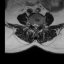CCS_normal: (35, 22, 36, 31)
LFS_stenosis: (38, 22, 40, 28)
LLS_normal: (36, 22, 38, 29)
RFS_normal: (31, 21, 33, 27)
RLS_normal: (33, 21, 35, 29)
